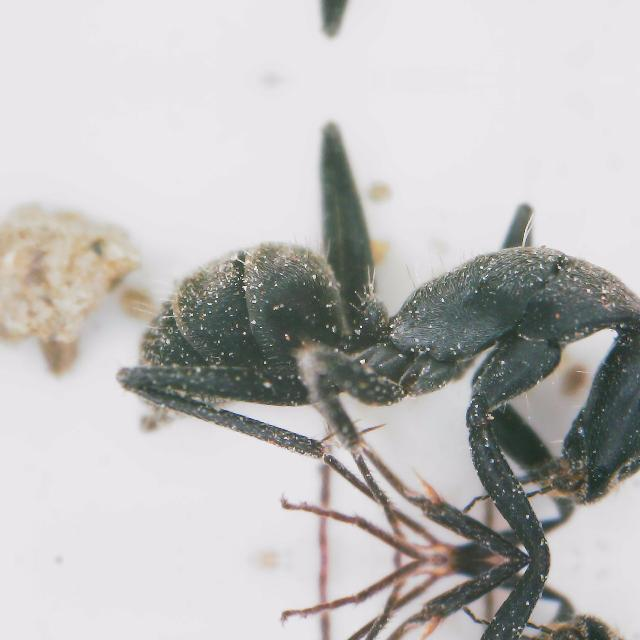Camponotus: (41, 179, 639, 559), (41, 560, 639, 640)
